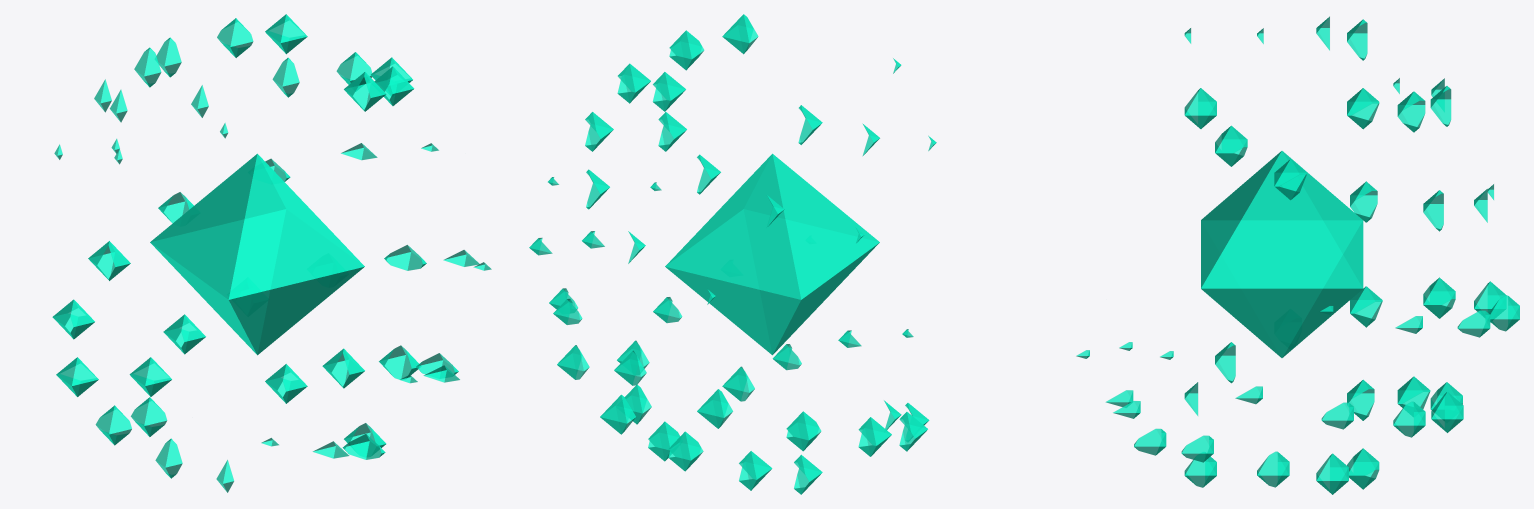
Rendered from spell0.obj.
3 views of the same model, side by side, from view 1: azimuth 30°, elevation 25°; view 2: azimuth 150°, elevation 25°; view 3: azimuth 270°, elevation 25° (orthographic). The views are drawn at different scales.
Visible parts, largest first — view 1: main, b1, d14, b15, c12, d15, a1, c11, c13, b16, c14, b2 (+13 smaller); view 2: main, d14, a2, c12, a3, a1, b1, d15, d13, c11, c13, b16 (+8 smaller); view 3: main, c12, a2, a3, d13, b15, b16, a1, c13, b1, b2, b14 (+16 smaller).
Boxes of the visible parts, x1,y1,x2,y2 form: main: (150,153,364,355); b1: (265,14,307,54); d14: (163,314,205,354); b15: (322,348,364,388); c12: (52,299,94,339); d15: (129,357,171,396); a1: (344,72,386,111); c11: (88,241,130,280); c13: (56,357,98,396); b16: (265,364,307,403); c14: (95,405,131,445); b2: (217,18,253,57); main: (665,153,879,355); d14: (668,431,703,471); a2: (669,30,704,70); c12: (786,411,821,451); a3: (617,63,650,103); a1: (722,14,758,54); b1: (652,72,685,111); d15: (739,451,772,490); d13: (600,394,635,434); c11: (697,389,732,428); c13: (858,417,891,456); b16: (648,421,680,461); main: (1201,151,1363,357); c12: (1423,277,1455,318); a2: (1215,125,1247,166); a3: (1274,159,1306,200); d13: (1431,392,1463,432); b15: (1316,453,1348,494); b16: (1347,448,1379,489); a1: (1184,88,1216,128); c13: (1350,286,1382,327); b1: (1347,88,1379,129); b2: (1397,91,1425,132); b14: (1257,451,1289,487).
Size of the model in its own units: 1.04 by 0.966 by 1.04.
